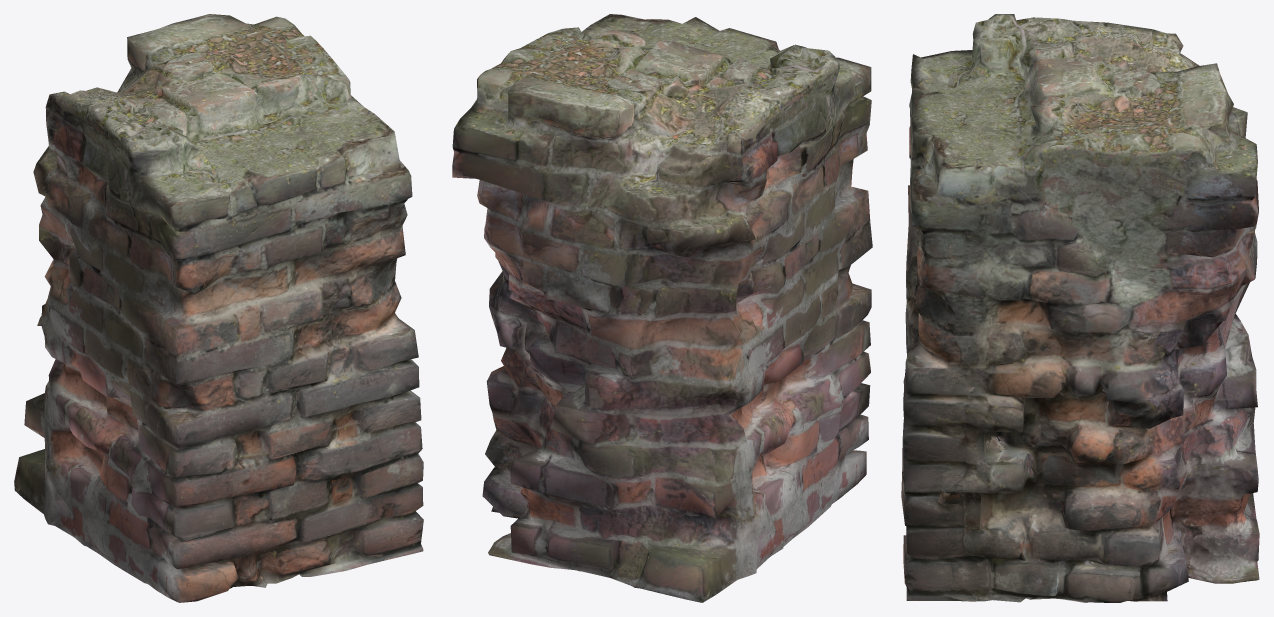
File: SM_Fence_02_06.fbx
3 renders of one model, left to right at view 1: azimuth 30°, elevation 25°; view 2: azimuth 150°, elevation 25°; view 3: azimuth 270°, elevation 25°, orthographic. The views are drawn at different scales.
Visible parts, largest first — view 1: sm_Fence_02_06_LOD0; view 2: sm_Fence_02_06_LOD0; view 3: sm_Fence_02_06_LOD0.
Boxes of the visible parts, x1,y1,x2,y2 form: sm_Fence_02_06_LOD0: (14,14,423,602); sm_Fence_02_06_LOD0: (452,14,872,602); sm_Fence_02_06_LOD0: (901,14,1259,602).
Size of the model in its own units: 89.78 by 83.22 by 128.
